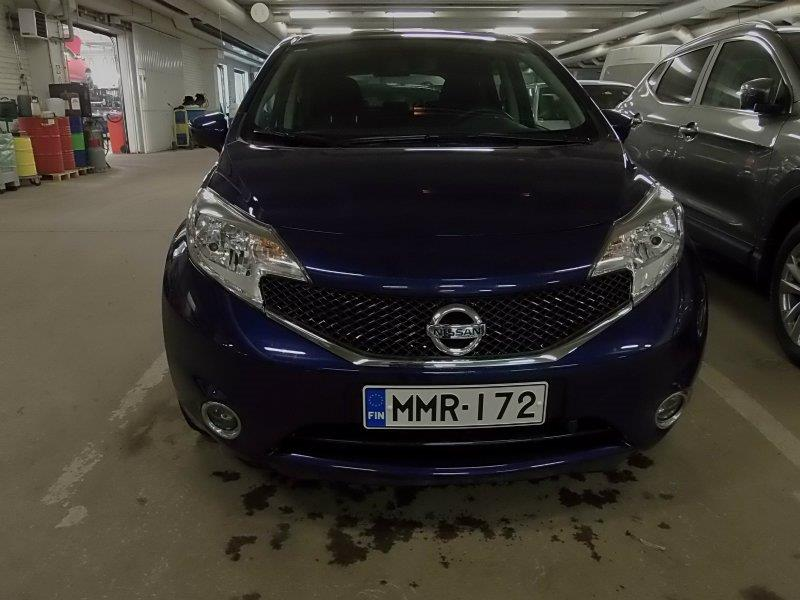license: (359, 381, 545, 430)
